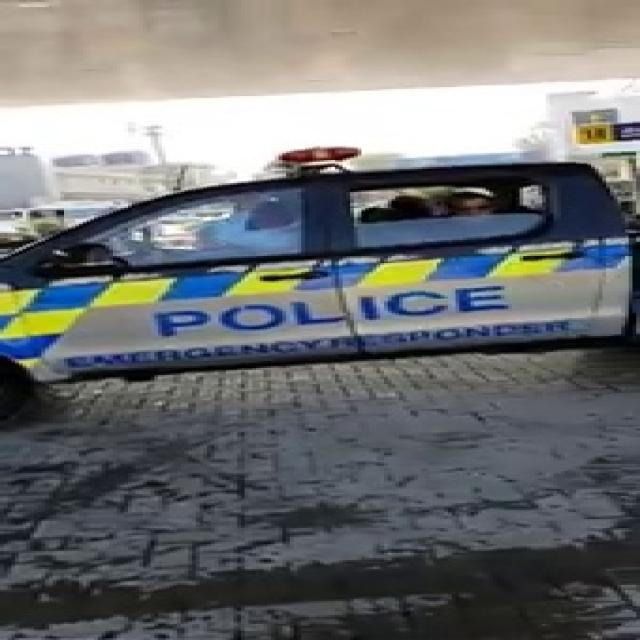police: (15, 169, 640, 428)
